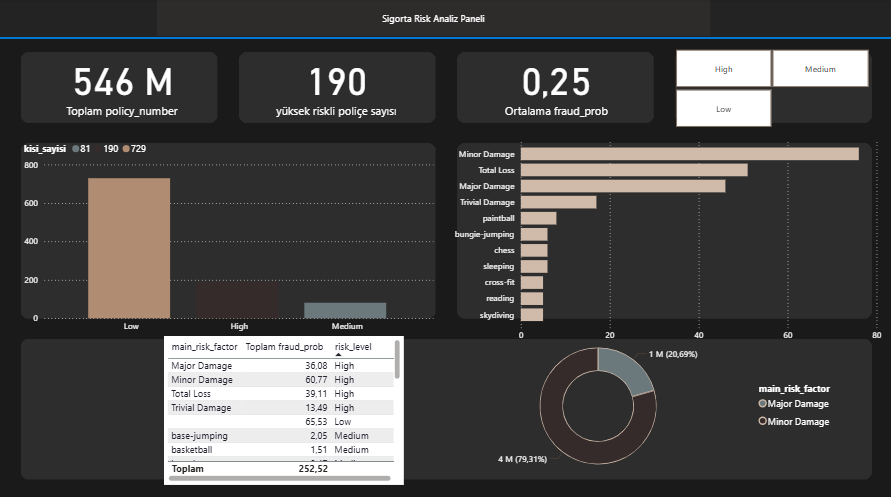

This screenshot's page, from the dashboard's own definition file:
{"tool":"powerbi","page":{"name":"1. sayfa","canvas":[1280,720],"ordinal":0},"visuals":[{"type":"card","fields":{"Values":["Sum(insurance_risk.policy_number)"]},"box":[36.9,66.6,280.6,112],"z":0},{"type":"columnChart","fields":{"Category":["Risk seviyesi dağılım.risk_level"],"Y":["Count(insurance_risk.policy_number)"],"Series":["Risk seviyesi dağılım.kisi_sayisi"]},"box":[37.2,200.2,586.4,283.2],"z":1},{"type":"card","fields":{"Values":["Avg(insurance_risk.fraud_prob)"]},"box":[640.7,54.3,316.1,137.3],"z":2},{"type":"card","fields":{"Values":["Count(Sorgu1.policy_number)"]},"box":[327.5,50.1,313.2,145.9],"z":3},{"type":"slicer","fields":{"Values":["Risk seviyesi dağılım.risk_level"]},"box":[943.9,67.2,324.6,124.4],"z":4},{"type":"barChart","fields":{"Category":["hasar durumuna göre.main_risk_factor"],"Y":["Sum(hasar durumuna göre.kisi_sayısı)"]},"box":[640.7,191.6,627.8,308.9],"z":5},{"type":"donutChart","fields":{"Y":["Sum(En acil.policy_number)"],"Series":["En acil.main_risk_factor"]},"box":[623.6,470.5,586.4,226],"z":6},{"type":"tableEx","fields":{"Values":["insurance_risk.main_risk_factor","Sum(insurance_risk.fraud_prob)","insurance_risk.risk_level"]},"box":[237.4,483.4,343.2,213.1],"z":7},{"type":"textbox","box":[227.4,0,790.9,54.3],"z":8}]}

Visuals, with their boxes in screenshot pixels (x1, y1, x2, y2), scaled from the page's 1280x720 canvas onto the 891x497 screenshot:
card - Sum(insurance_risk.policy_number): left=26, top=46, right=221, bottom=123
columnChart - Risk seviyesi dağılım.risk_level x Count(insurance_risk.policy_number): left=26, top=138, right=434, bottom=334
card - Avg(insurance_risk.fraud_prob): left=446, top=37, right=666, bottom=132
card - Count(Sorgu1.policy_number): left=228, top=35, right=446, bottom=135
slicer - Risk seviyesi dağılım.risk_level: left=657, top=46, right=883, bottom=132
barChart - hasar durumuna göre.main_risk_factor x Sum(hasar durumuna göre.kisi_sayısı): left=446, top=132, right=883, bottom=345
donutChart - Sum(En acil.policy_number) x En acil.main_risk_factor: left=434, top=325, right=842, bottom=481
tableEx - insurance_risk.main_risk_factor x Sum(insurance_risk.fraud_prob): left=165, top=334, right=404, bottom=481
textbox: left=158, top=0, right=709, bottom=37
